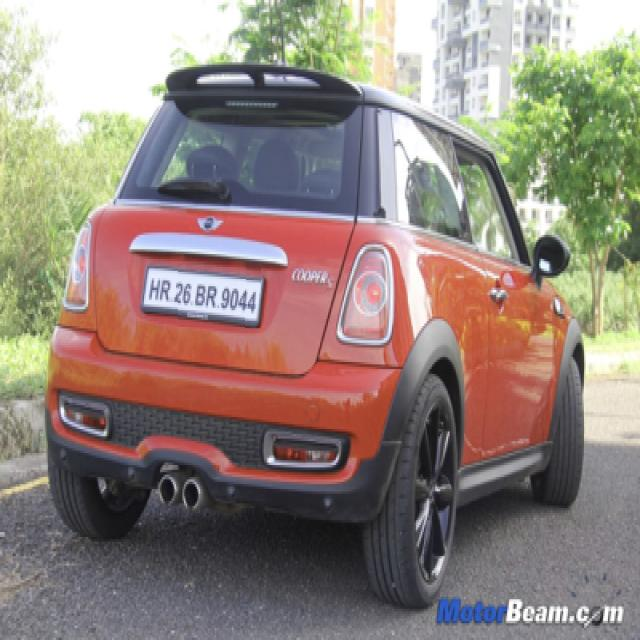licence: (144, 262, 261, 328)
